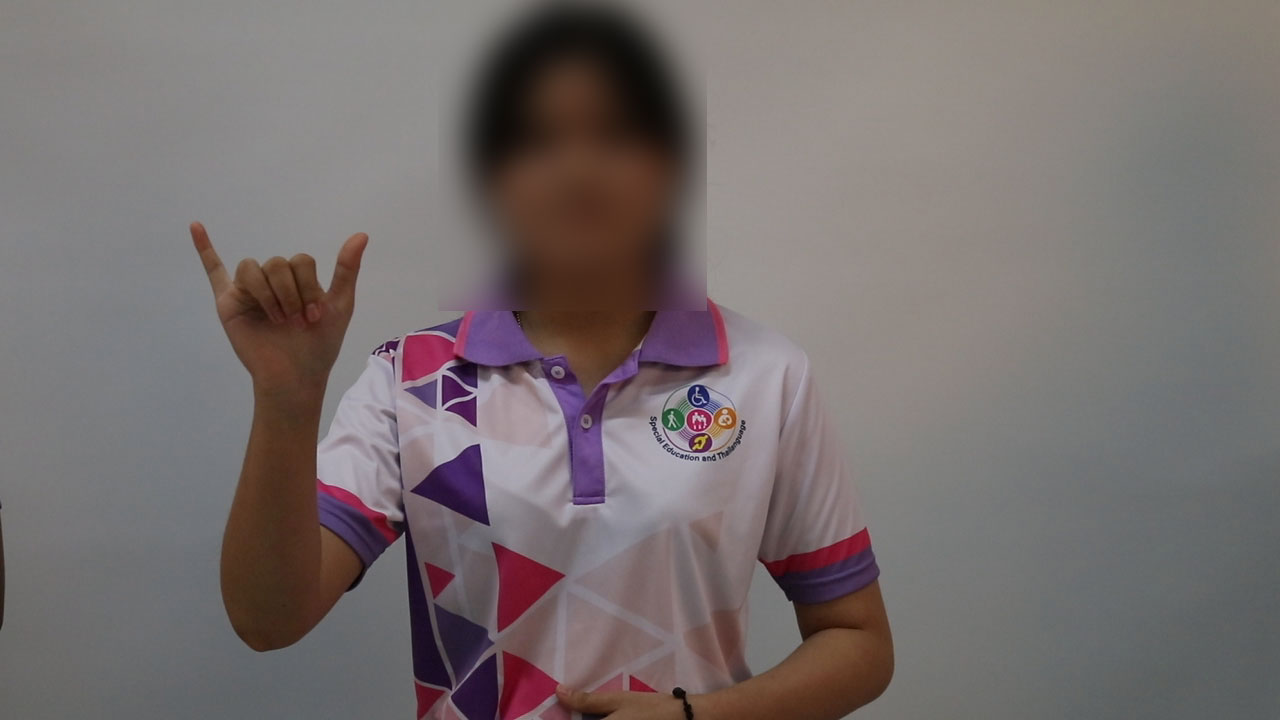yor: (187, 215, 384, 394)
